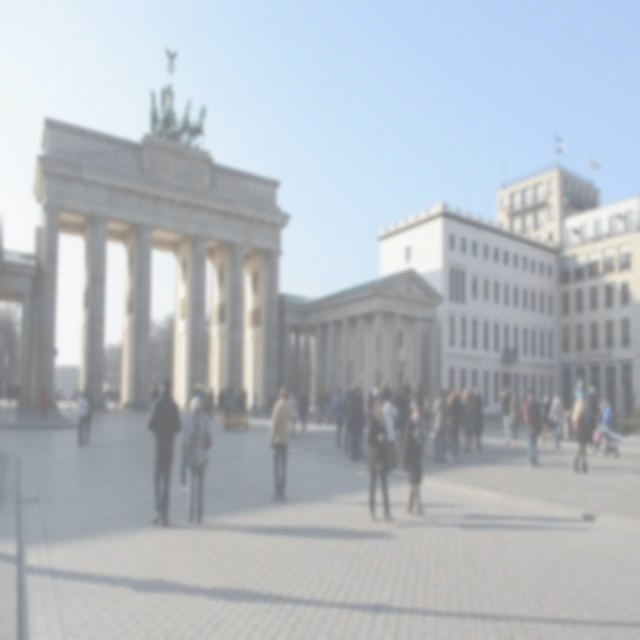pessoa: (146, 376, 182, 527), (184, 394, 212, 524), (365, 394, 392, 524), (268, 382, 294, 502), (401, 394, 426, 518), (522, 386, 544, 471), (570, 386, 588, 474), (215, 381, 248, 427), (431, 384, 449, 464), (588, 378, 606, 454), (346, 385, 362, 463), (366, 374, 408, 402), (448, 387, 463, 465), (546, 388, 564, 450), (459, 386, 475, 454), (381, 393, 399, 452), (341, 381, 354, 459), (180, 398, 190, 494), (354, 384, 366, 460), (538, 392, 554, 449), (76, 388, 90, 450), (472, 384, 484, 454), (500, 384, 513, 447), (508, 384, 520, 449), (332, 385, 344, 448), (82, 382, 94, 444), (440, 387, 450, 457), (602, 394, 612, 454), (297, 384, 309, 432), (182, 388, 208, 410), (408, 378, 424, 409), (289, 391, 299, 438), (422, 396, 430, 439), (39, 384, 48, 422), (102, 387, 120, 405), (5, 378, 14, 410), (396, 386, 406, 414), (249, 388, 258, 419), (149, 382, 160, 406), (323, 384, 331, 417), (207, 386, 214, 422), (12, 380, 20, 410), (312, 387, 320, 417), (565, 406, 572, 438), (606, 430, 624, 442), (54, 380, 62, 406), (71, 380, 79, 406), (268, 386, 280, 402), (572, 386, 578, 414), (458, 423, 466, 441), (570, 421, 575, 443), (540, 396, 544, 416), (470, 433, 476, 443)
